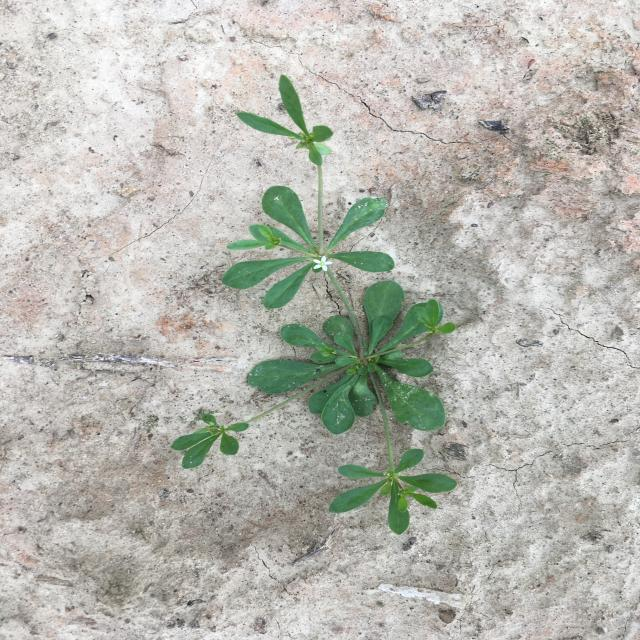Carpetweed: (170, 74, 458, 536)
